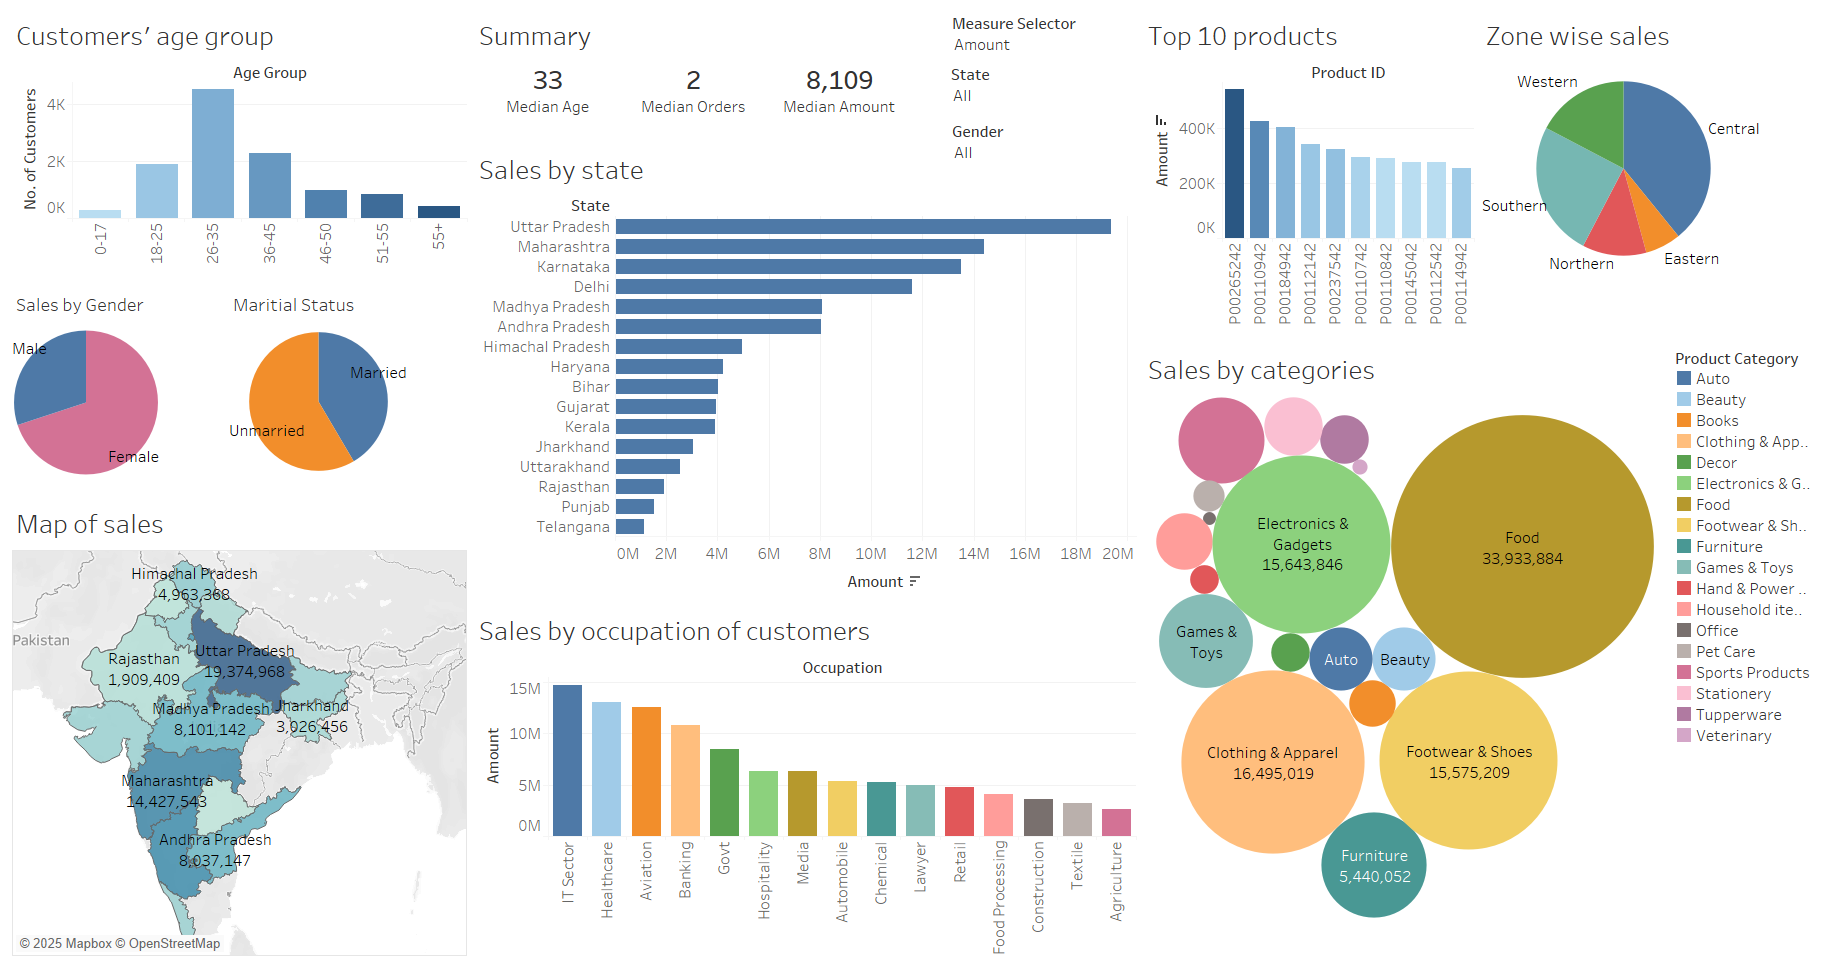

Layout of this report page (visuals, bound fields, positions):
{"tool":"tableau","page":{"name":"Dashboard 1","canvas":[1824,968],"ordinal":0},"visuals":[{"type":"worksheet","title":"Sheet 2","mark":"Automatic","rows":["User_ID"],"cols":["Age Group"],"box":[8,8,463,274]},{"type":"worksheet","title":"Sheet 4","mark":"Automatic","box":[471,8,669,134]},{"type":"worksheet","title":"Sheet 6","mark":"Automatic","rows":["Calculation_802203700653801472"],"cols":["Product_ID"],"box":[1140,8,338,334]},{"type":"worksheet","title":"Sheet 5","mark":"Pie","box":[1478,8,338,334]},{"type":"parameter","param":"[Parameters].[Parameter 1]","box":[952,12,160,48]},{"type":"filter","title":"Sheet 3","param":"[federated.1yloel31di0u261696lk901k3v04].[none:State:nk]","box":[951,63,160,53]},{"type":"filter","title":"Sheet 3","param":"[federated.1yloel31di0u261696lk901k3v04].[none:Gender:nk]","box":[952,120,160,53]},{"type":"worksheet","title":"Sheet 3","mark":"Automatic","rows":["State"],"cols":["Calculation_802203700653801472"],"box":[471,142,669,461]},{"type":"worksheet","title":"Sheet 7","mark":"Pie","box":[8,282,216.5,214]},{"type":"worksheet","title":"Sheet 8","mark":"Pie","box":[224.5,282,246.5,214]},{"type":"worksheet","title":"Sheet 10","mark":"Circle","box":[1140,342,530,618]},{"type":"legend","title":"Sheet 10","param":"[federated.1yloel31di0u261696lk901k3v04].[none:Product_Category:nk]","box":[1670,342,146,618]},{"type":"worksheet","title":"Sheet 1","mark":"Multipolygon","box":[8,496,463,464]},{"type":"worksheet","title":"Sheet 9","mark":"Automatic","cols":["Occupation"],"box":[471,603,669,357]}]}

Visuals, with their boxes in screenshot pixels (x1, y1, x2, y2), scaled from the page's 1824x968 canvas onto the 1824x968 screenshot:
"Sheet 2" worksheet: {"left": 8, "top": 8, "right": 471, "bottom": 282}
"Sheet 4" worksheet: {"left": 471, "top": 8, "right": 1140, "bottom": 142}
"Sheet 6" worksheet: {"left": 1140, "top": 8, "right": 1478, "bottom": 342}
"Sheet 5" worksheet (Pie marks): {"left": 1478, "top": 8, "right": 1816, "bottom": 342}
parameter: {"left": 952, "top": 12, "right": 1112, "bottom": 60}
"Sheet 3" filter: {"left": 951, "top": 63, "right": 1111, "bottom": 116}
"Sheet 3" filter: {"left": 952, "top": 120, "right": 1112, "bottom": 173}
"Sheet 3" worksheet: {"left": 471, "top": 142, "right": 1140, "bottom": 603}
"Sheet 7" worksheet (Pie marks): {"left": 8, "top": 282, "right": 224, "bottom": 496}
"Sheet 8" worksheet (Pie marks): {"left": 224, "top": 282, "right": 471, "bottom": 496}
"Sheet 10" worksheet (Circle marks): {"left": 1140, "top": 342, "right": 1670, "bottom": 960}
"Sheet 10" legend: {"left": 1670, "top": 342, "right": 1816, "bottom": 960}
"Sheet 1" worksheet (Multipolygon marks): {"left": 8, "top": 496, "right": 471, "bottom": 960}
"Sheet 9" worksheet: {"left": 471, "top": 603, "right": 1140, "bottom": 960}
